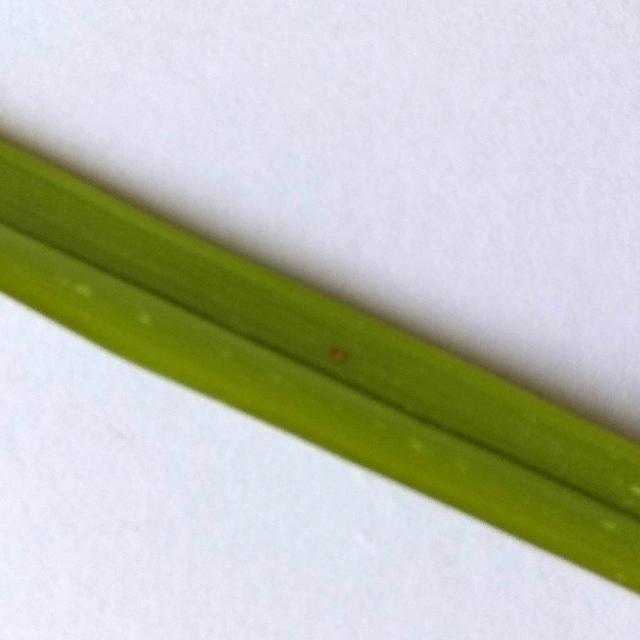Blast: (326, 344, 354, 362)
